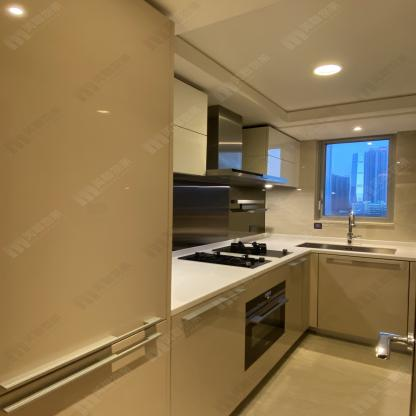Cupboard: (286, 251, 415, 358)
Exhaust Hood: (205, 168, 287, 185)
Faucet: (344, 211, 360, 246)
Fridge: (179, 242, 293, 269)
Oven: (244, 279, 286, 372)
Sink: (294, 242, 397, 255)
